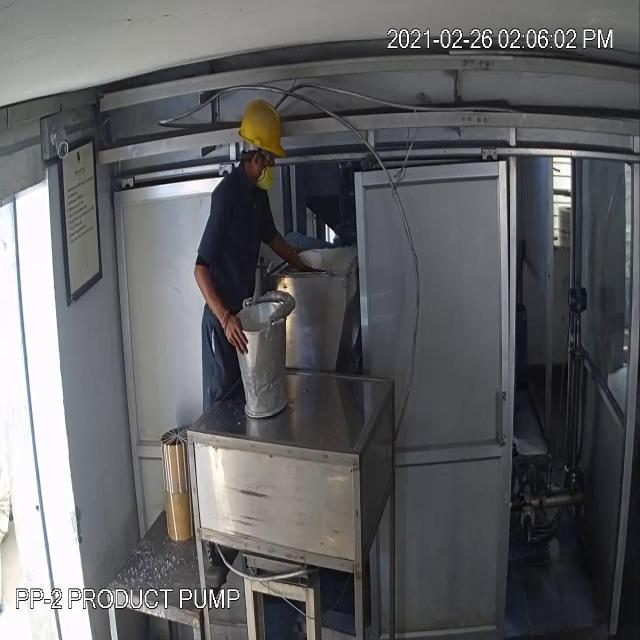helmet: (235, 98, 289, 162)
